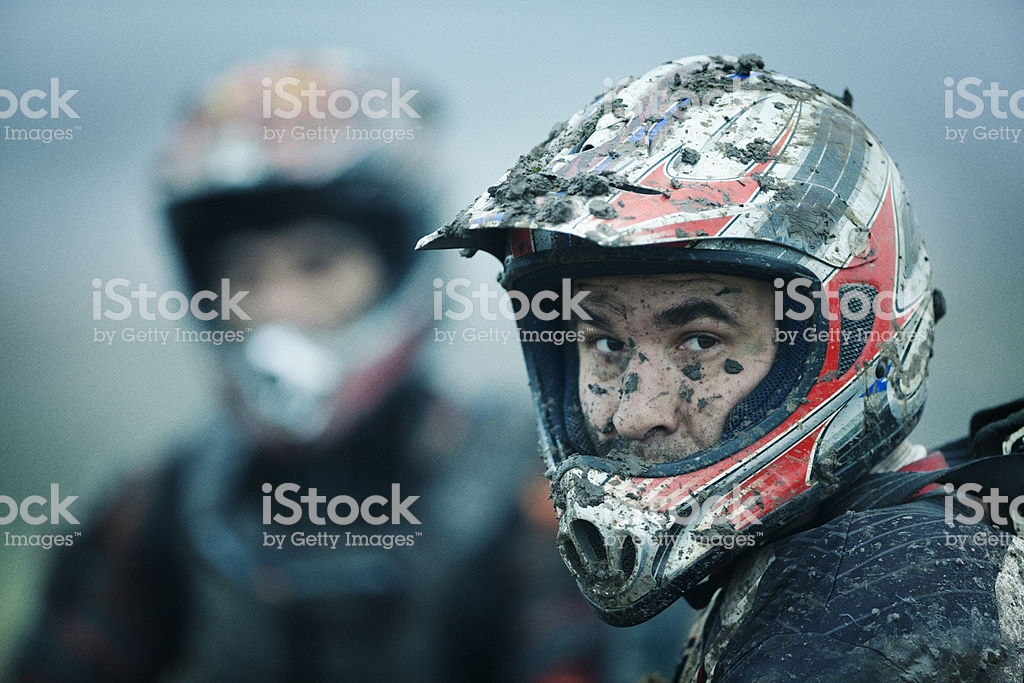helmet: (463, 84, 917, 576)
